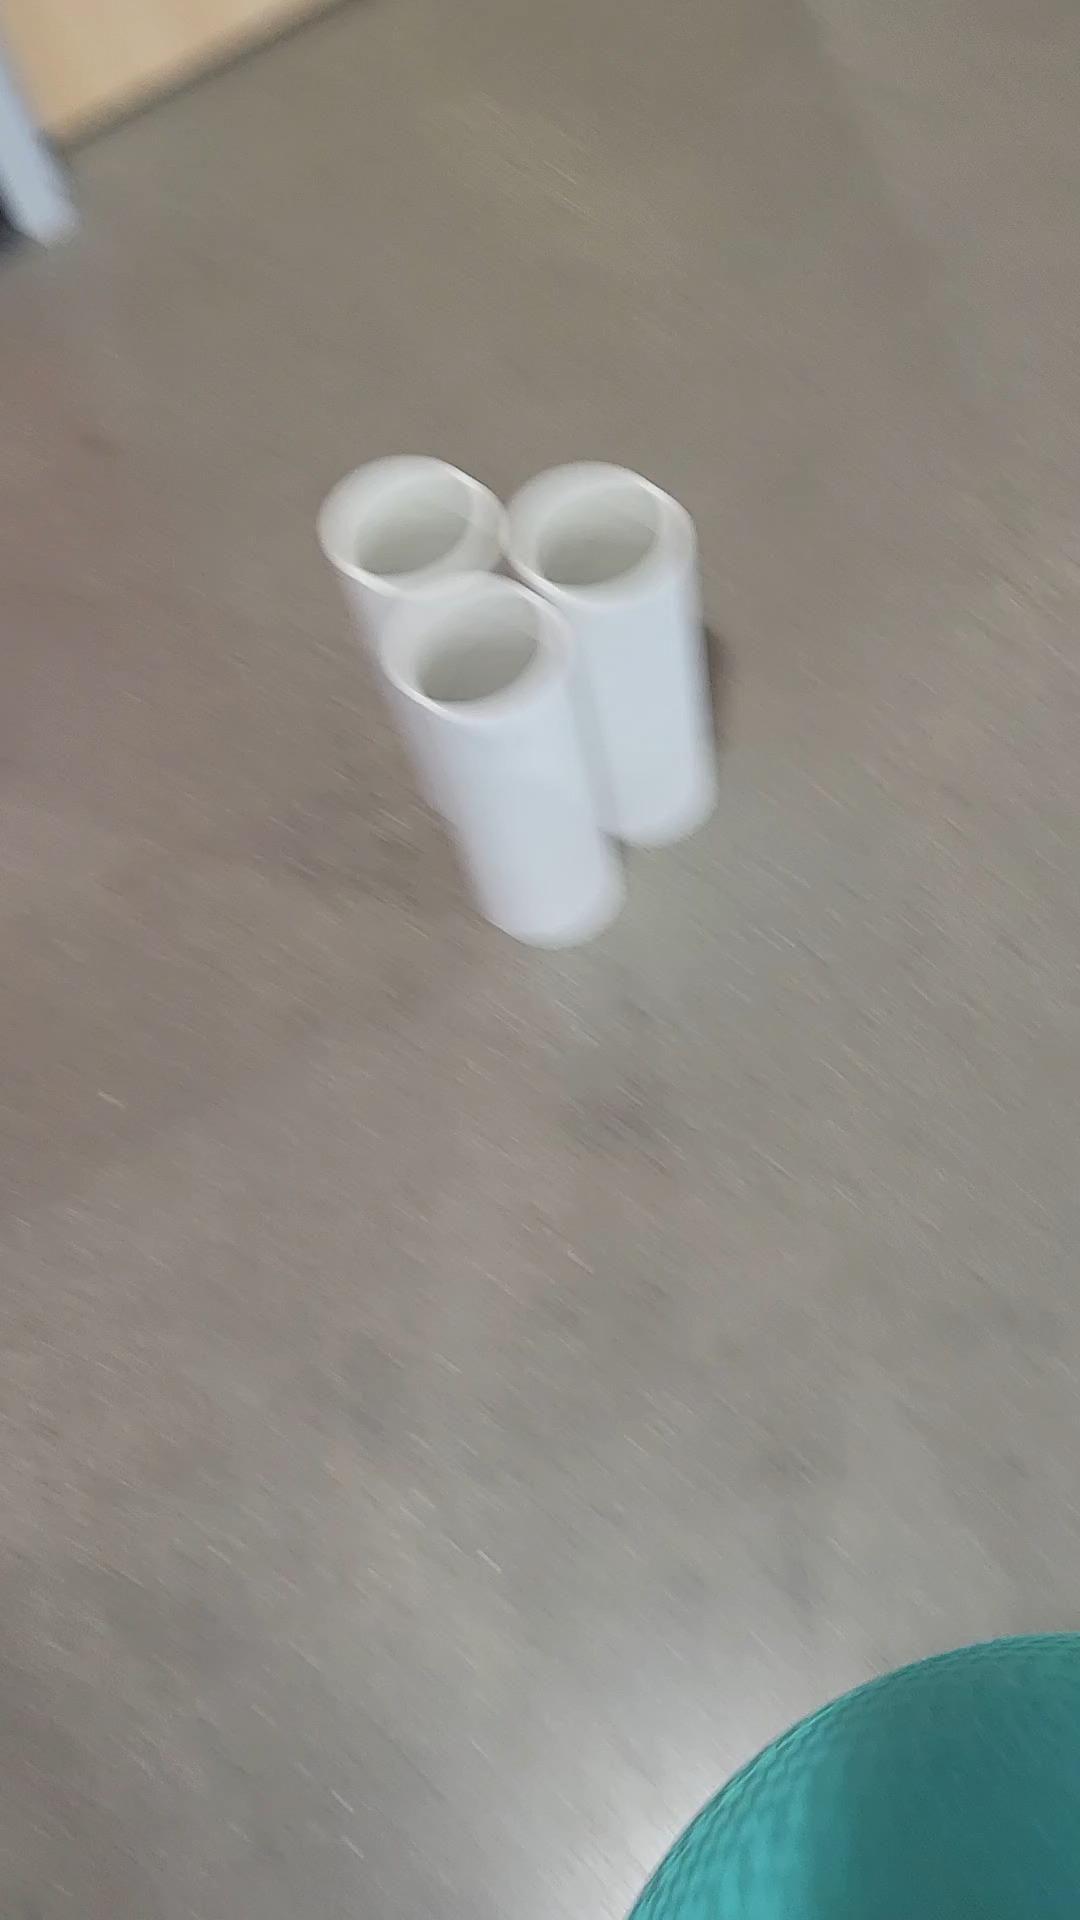algae: (632, 1636, 1080, 1920)
coral: (506, 484, 721, 819), (396, 591, 583, 936), (330, 456, 487, 588)
